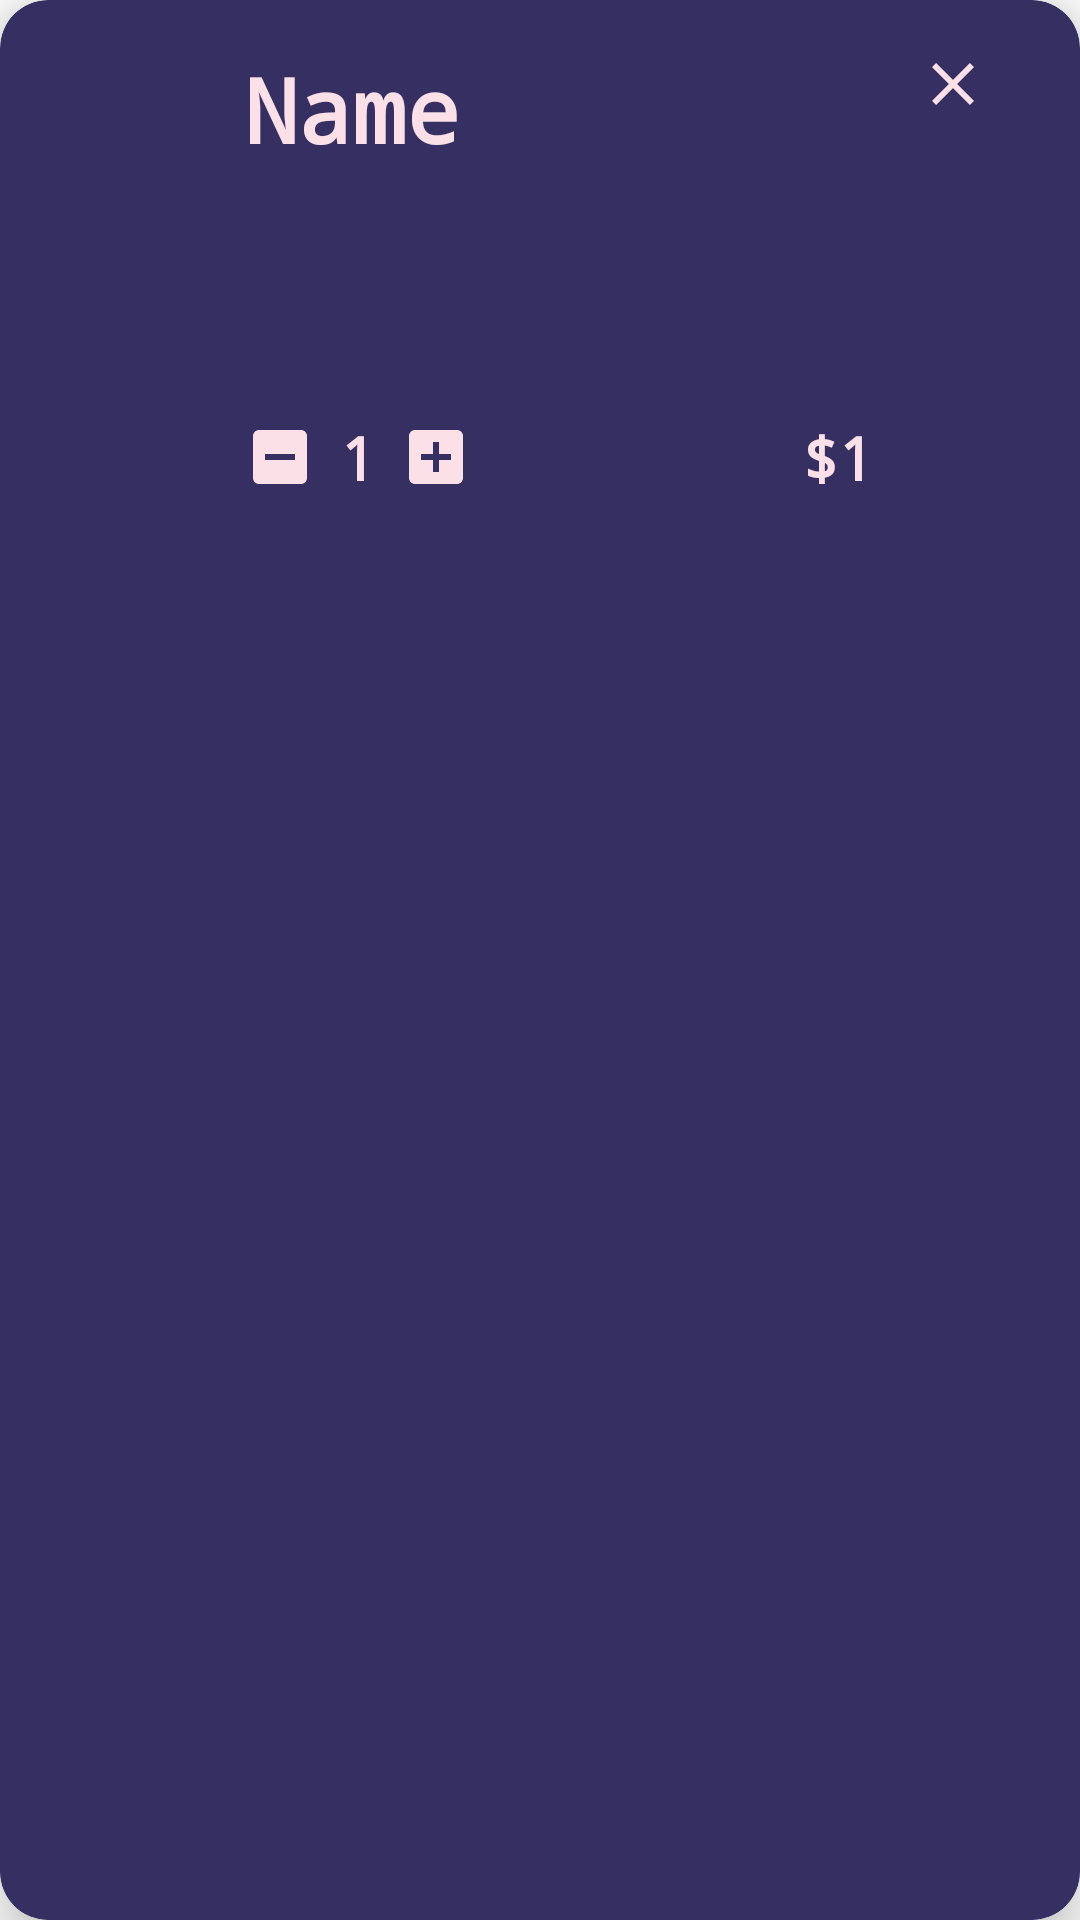

Where icons sit on this 1080*1920 app screen, as (x1, y1, x2, y2):
add box: (409, 430, 463, 484)
clear: (932, 63, 974, 105)
indeterminate check box: (253, 430, 307, 484)
